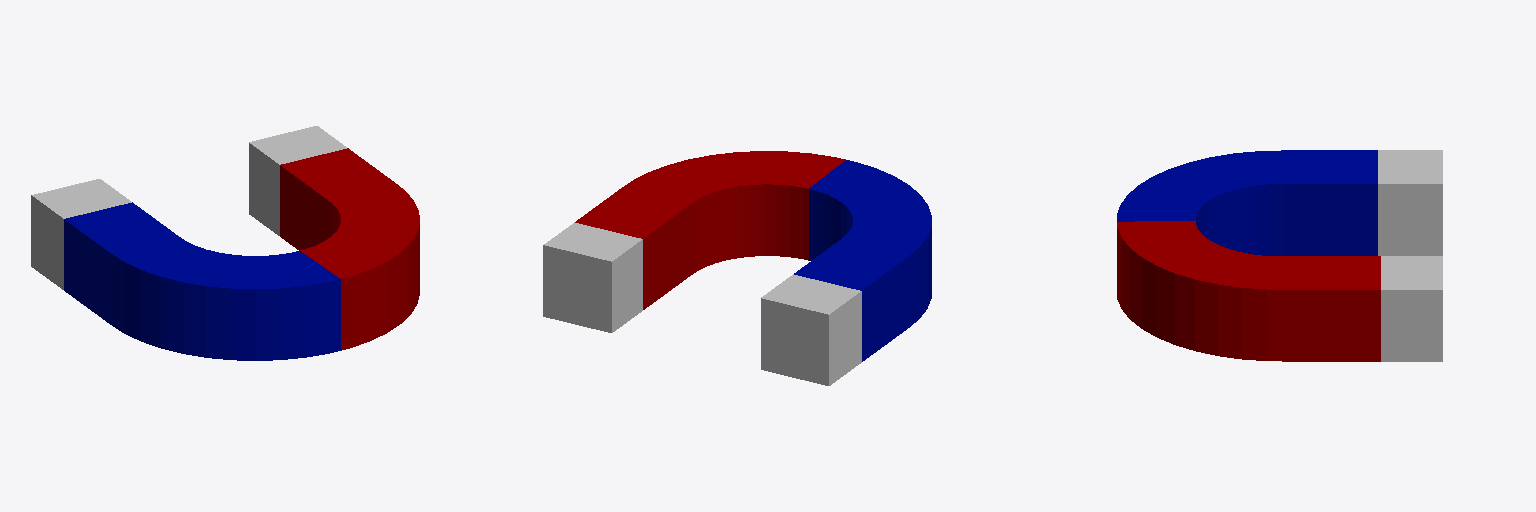
The model's file is my_magnet.obj.
3 renders of one model, left to right at view 1: azimuth 30°, elevation 25°; view 2: azimuth 150°, elevation 25°; view 3: azimuth 270°, elevation 25°, orthographic.
Parts seen in each view (by area): view 1: Cube; view 2: Cube; view 3: Cube.
Boxes of the visible parts, x1=… form: Cube: x1=31, y1=126, x2=419, y2=360; Cube: x1=543, y1=151, x2=931, y2=385; Cube: x1=1117, y1=150, x2=1442, y2=361.
Bounding box in the file's own units: 8.34 × 2 × 8.26.